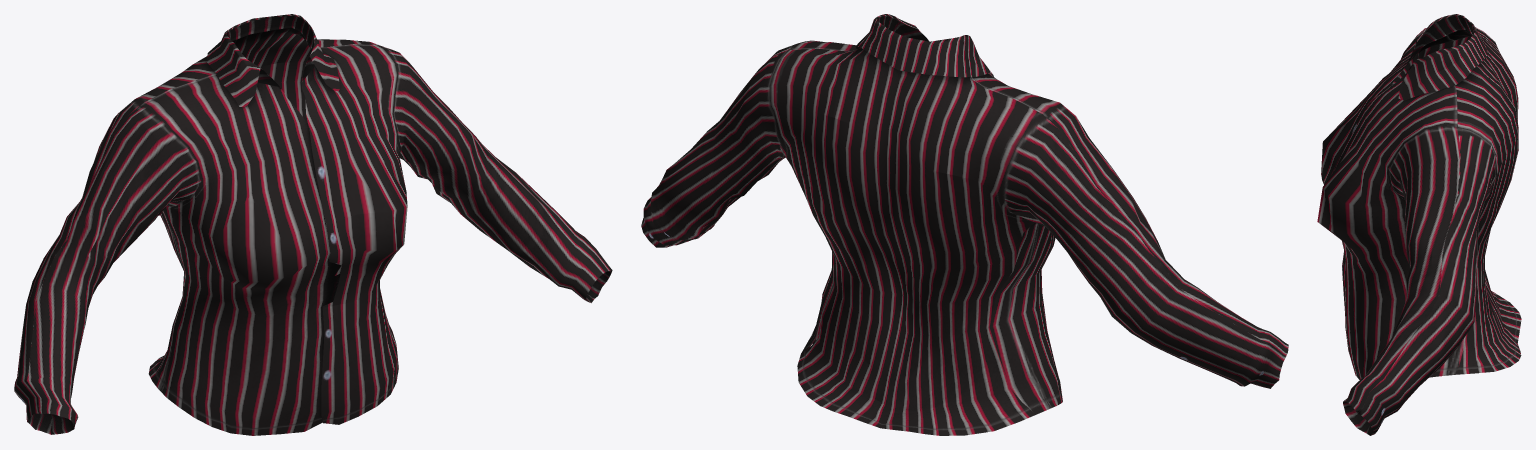
The model's file is LS_XLF.dae.
3 renders of one model, left to right at view 1: azimuth 30°, elevation 25°; view 2: azimuth 150°, elevation 25°; view 3: azimuth 270°, elevation 25°, orthographic. The views are drawn at different scales.
Parts seen in each view (by area): view 1: LS; view 2: LS; view 3: LS.
Boxes of the visible parts, <box> form: LS: <box>14,14,612,435</box>; LS: <box>641,14,1288,435</box>; LS: <box>1317,14,1521,435</box>.
Size of the model in its own units: 8.75 by 5.21 by 2.91.
